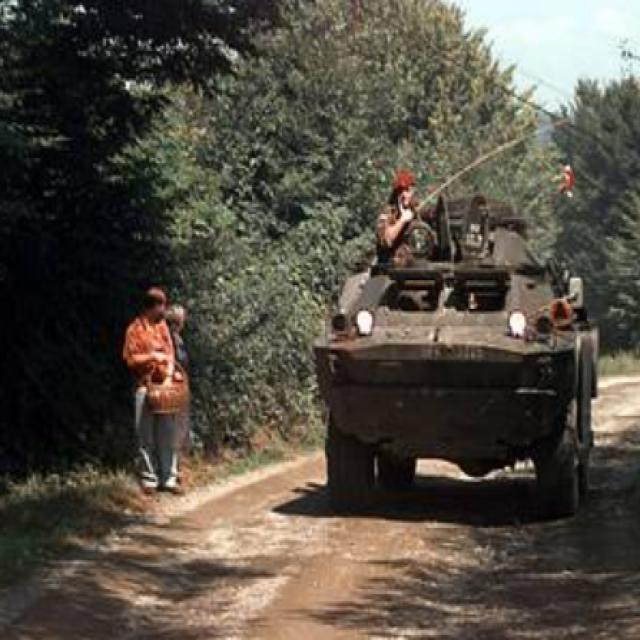MIL_APC: (320, 172, 603, 508)
